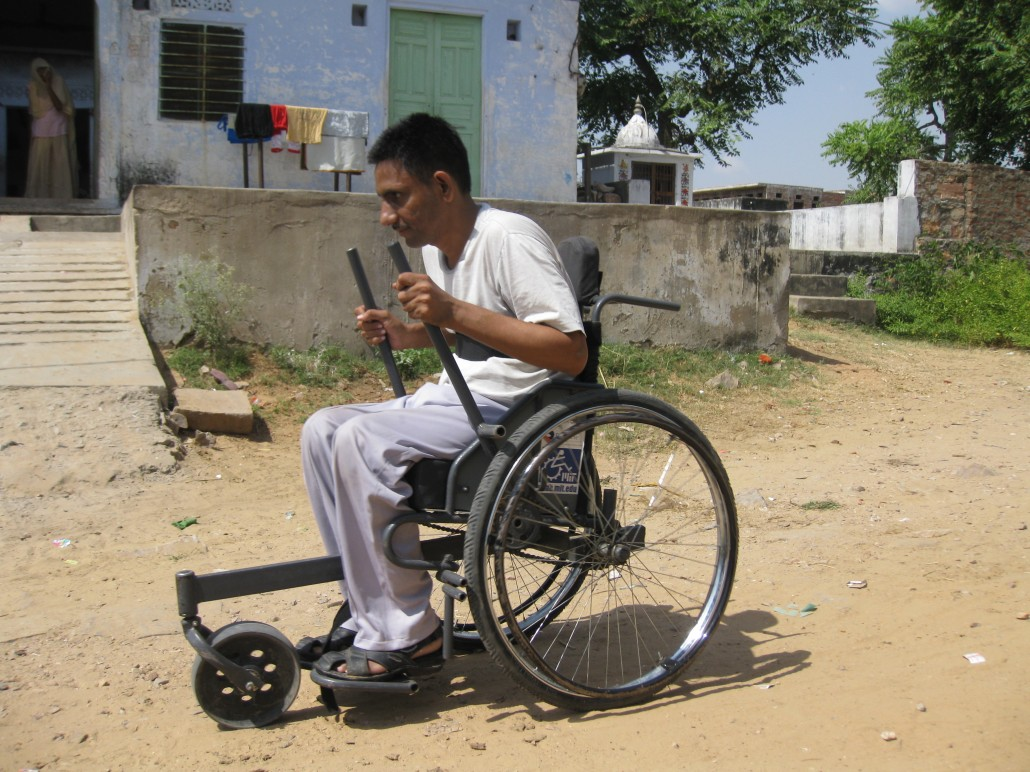person: (308, 104, 592, 419)
wheelchair: (173, 379, 751, 722)
